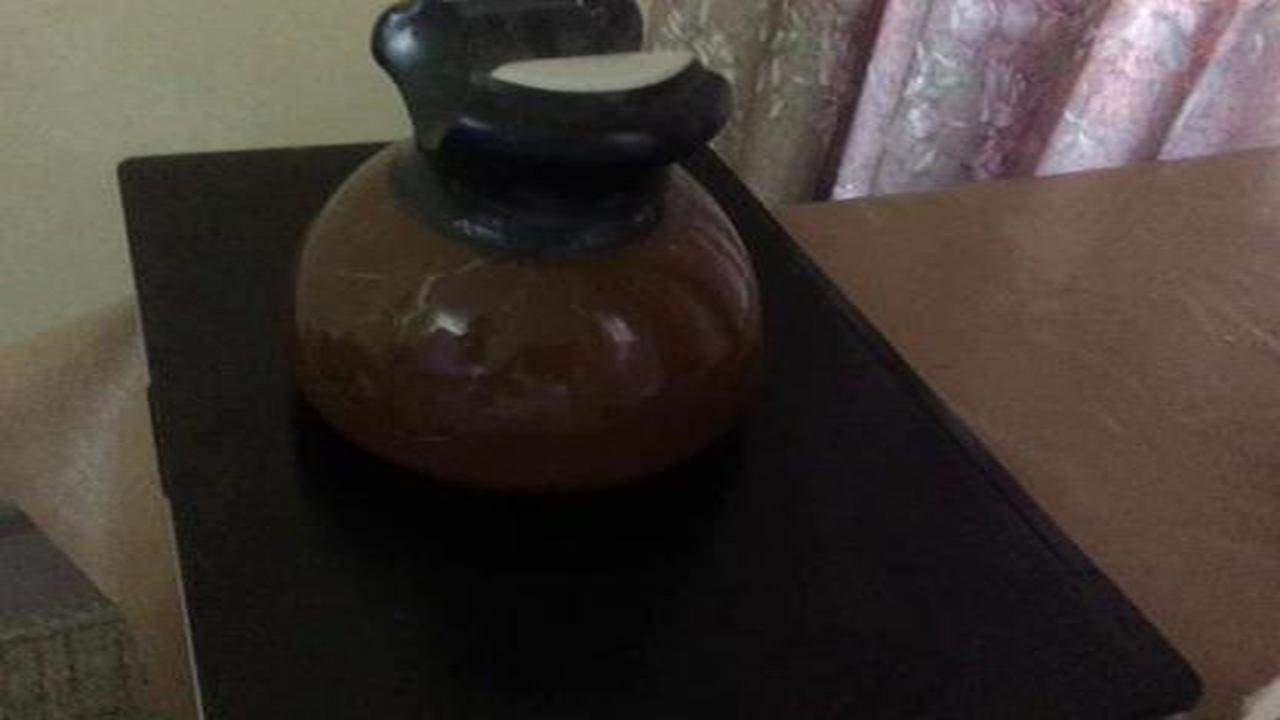insulator_pin: (262, 4, 782, 509)
